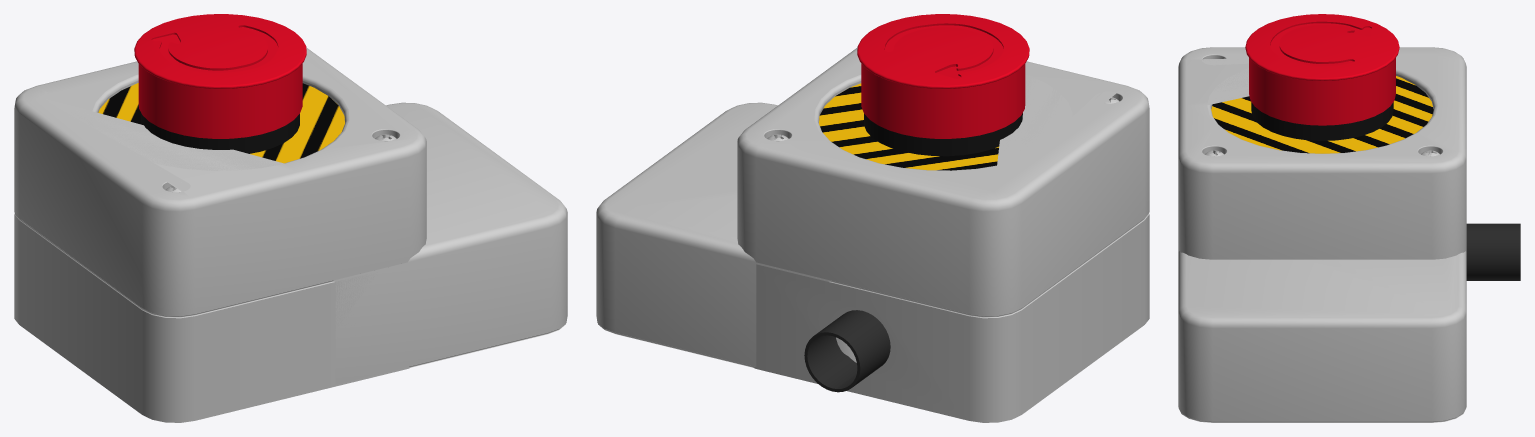
The model's file is uploads_files_3282607_Emergency_Button.fbx.
3 views of the same model, side by side, from view 1: azimuth 30°, elevation 25°; view 2: azimuth 150°, elevation 25°; view 3: azimuth 270°, elevation 25° (orthographic). The views are drawn at different scales.
Visible parts, largest first — view 1: Emergency_Button, Emergency_Button.002, Emergency_Button.001; view 2: Emergency_Button, Emergency_Button.002, Emergency_Button.001; view 3: Emergency_Button, Emergency_Button.002, Emergency_Button.001.
Boxes of the visible parts, left/top/right/bottom form: Emergency_Button: left=14, top=47, right=426, bottom=422; Emergency_Button.002: left=332, top=102, right=567, bottom=384; Emergency_Button.001: left=134, top=14, right=306, bottom=138; Emergency_Button: left=737, top=47, right=1149, bottom=422; Emergency_Button.002: left=596, top=102, right=856, bottom=367; Emergency_Button.001: left=857, top=14, right=1029, bottom=138; Emergency_Button: left=1178, top=47, right=1520, bottom=280; Emergency_Button.002: left=1178, top=251, right=1466, bottom=422; Emergency_Button.001: left=1245, top=14, right=1399, bottom=125.
Bounding box in the file's own units: 12.03 × 7.9 × 9.5.
